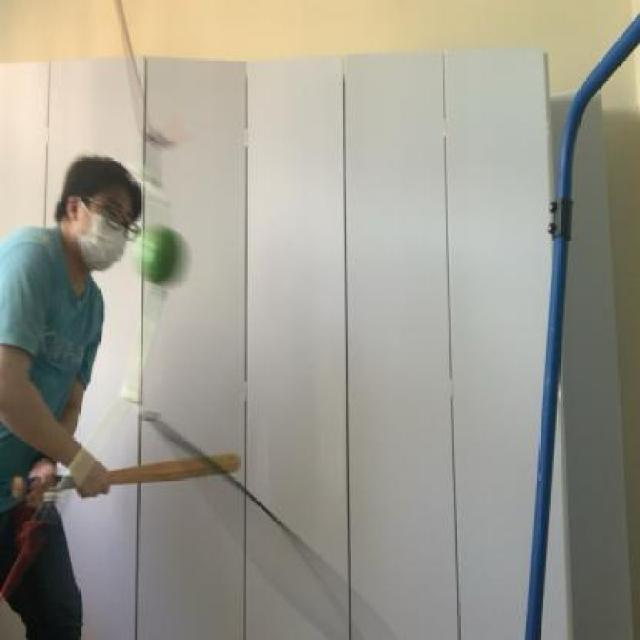baseball: (113, 209, 190, 294)
